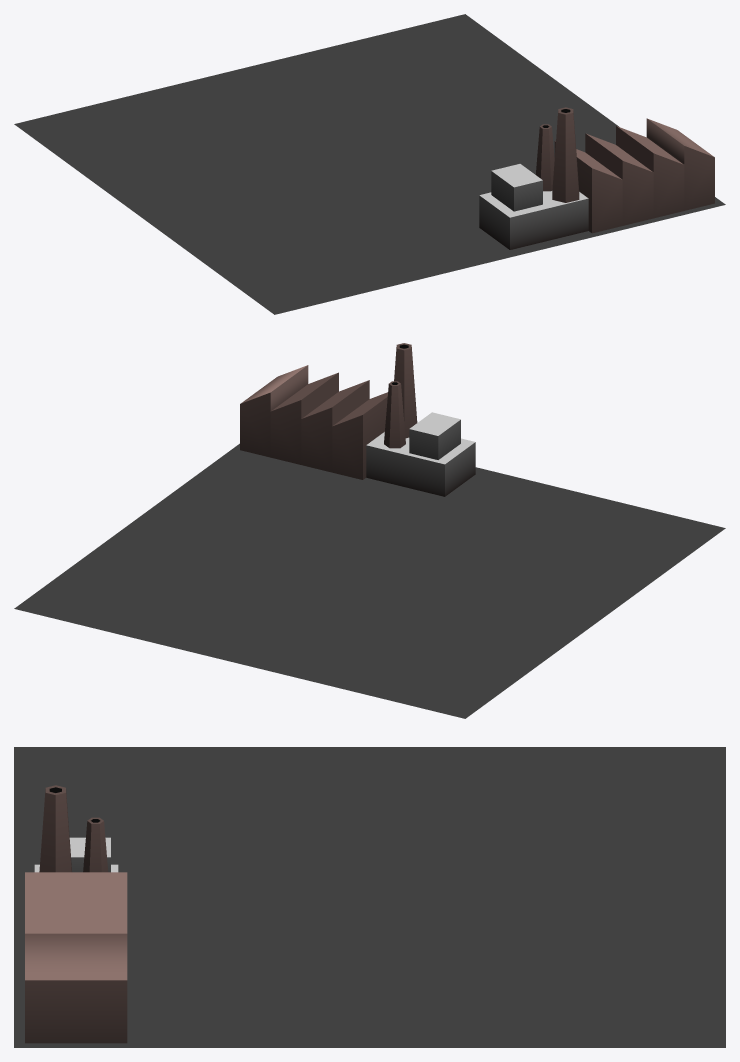
Rendered from terrain_factory.fbx.
3 views of the same model, one above another, from view 1: azimuth 30°, elevation 25°; view 2: azimuth 150°, elevation 25°; view 3: azimuth 270°, elevation 25° (orthographic). The views are drawn at different scales.
Parts seen in each view (by area): view 1: terrain_factory; view 2: terrain_factory; view 3: terrain_factory.
Boxes of the visible parts, <box> form: terrain_factory: <box>14,14,725,314</box>; terrain_factory: <box>14,343,725,718</box>; terrain_factory: <box>14,747,725,1047</box>.
Size of the model in its own units: 10 by 2.5 by 10.
